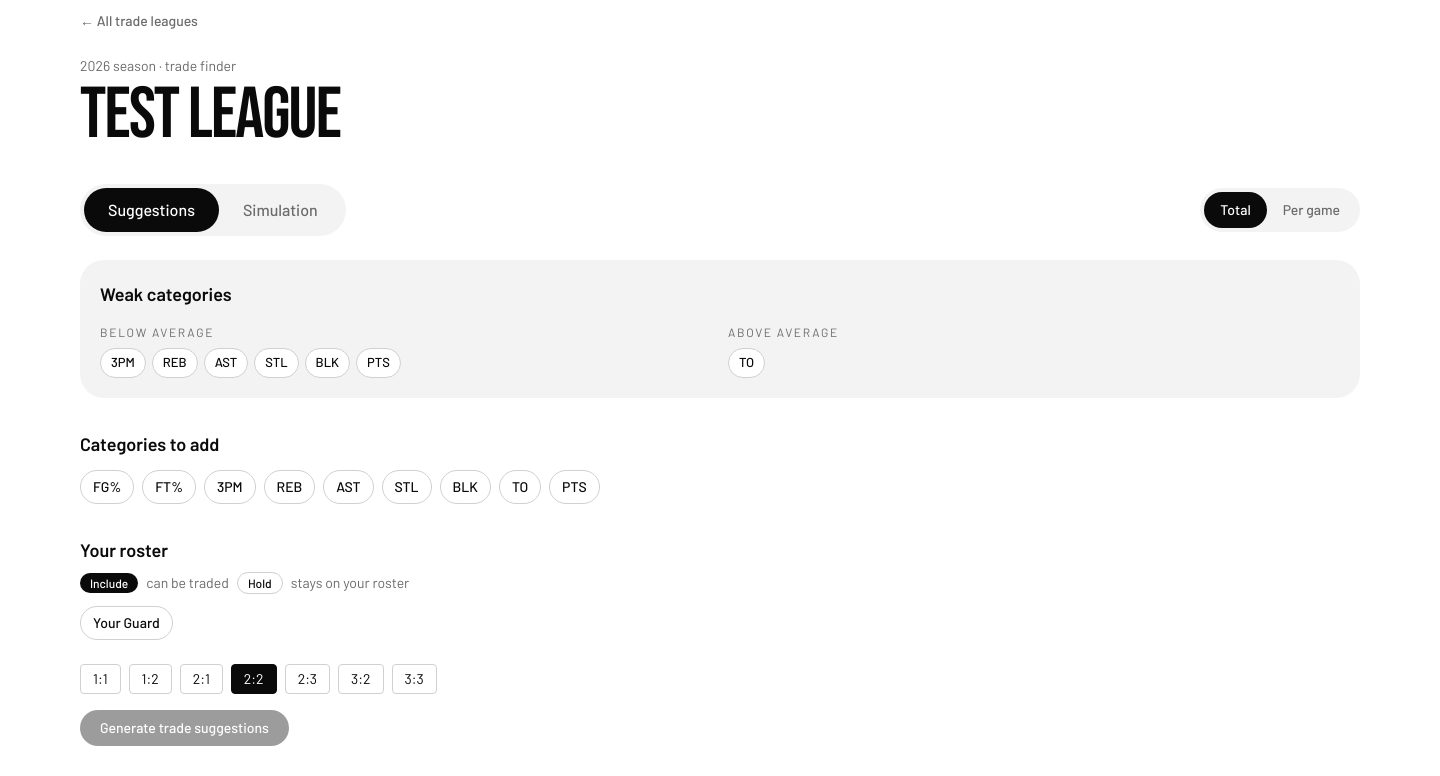
Test: TradeWorkspace › omits a player switched to Include
The image size is (1440, 776).
What coordinates should you click on to do the following:
click the button "3PM"
I would click on:
 (230, 486)
Its box is [204,470,256,504].
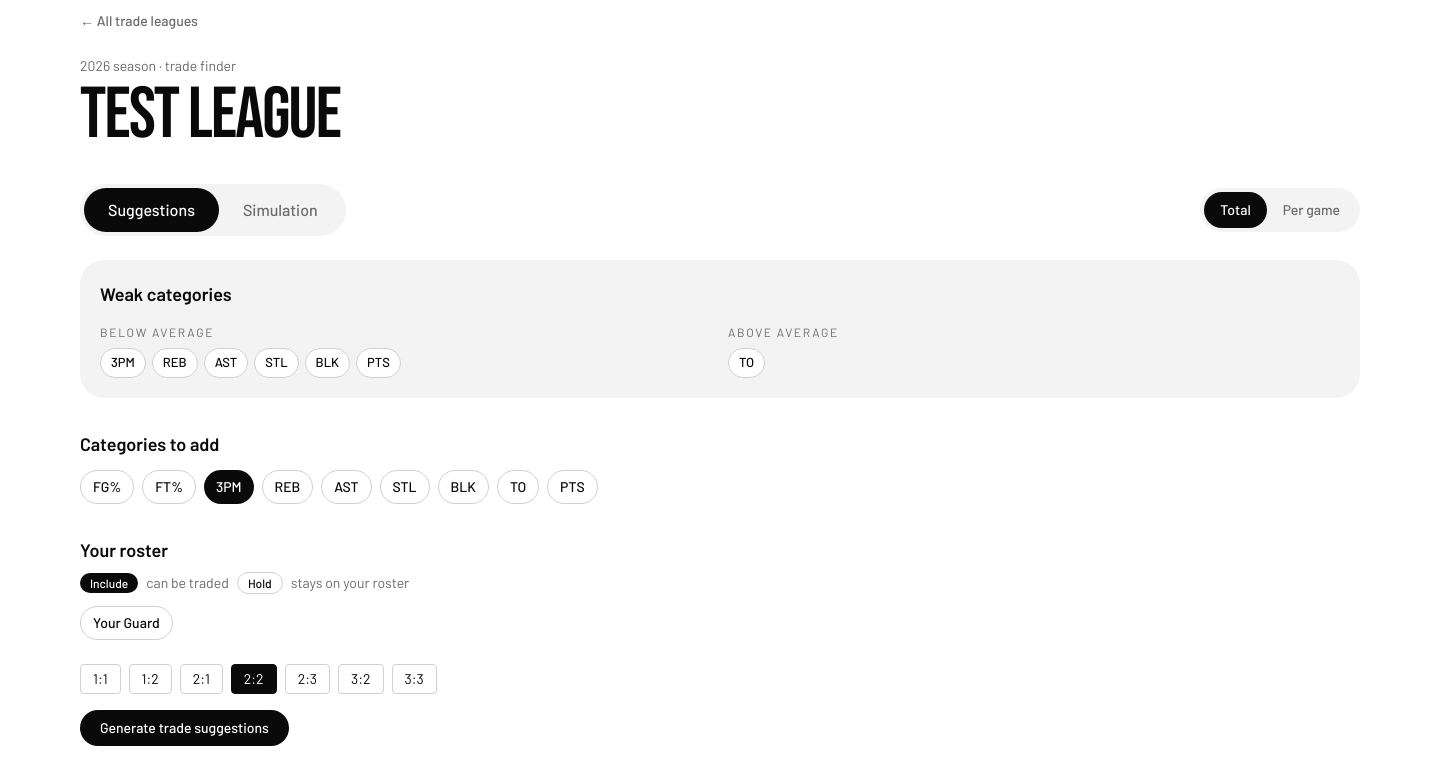
What coordinates should you click on to do the following:
click the button "Your Guard"
I would click on:
 (126, 622)
Its box is [80,606,173,640].
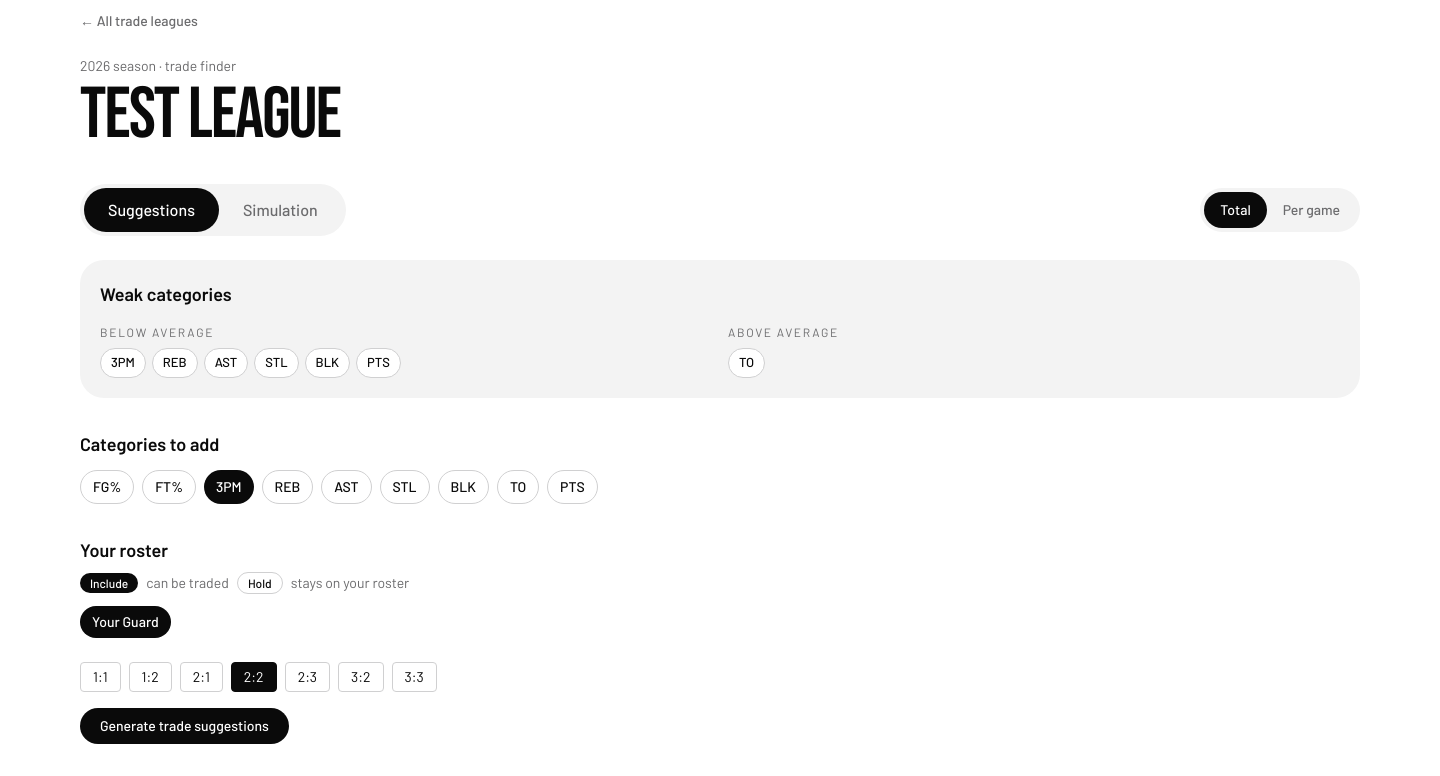
Check: the button "Your Guard" is pressed, box [80,606,171,638]
What coordinates should you click on to do the following:
click the button "Generate trade suggestions"
I would click on:
 (184, 726)
Its box is [80,708,289,744].
(page scrolled)
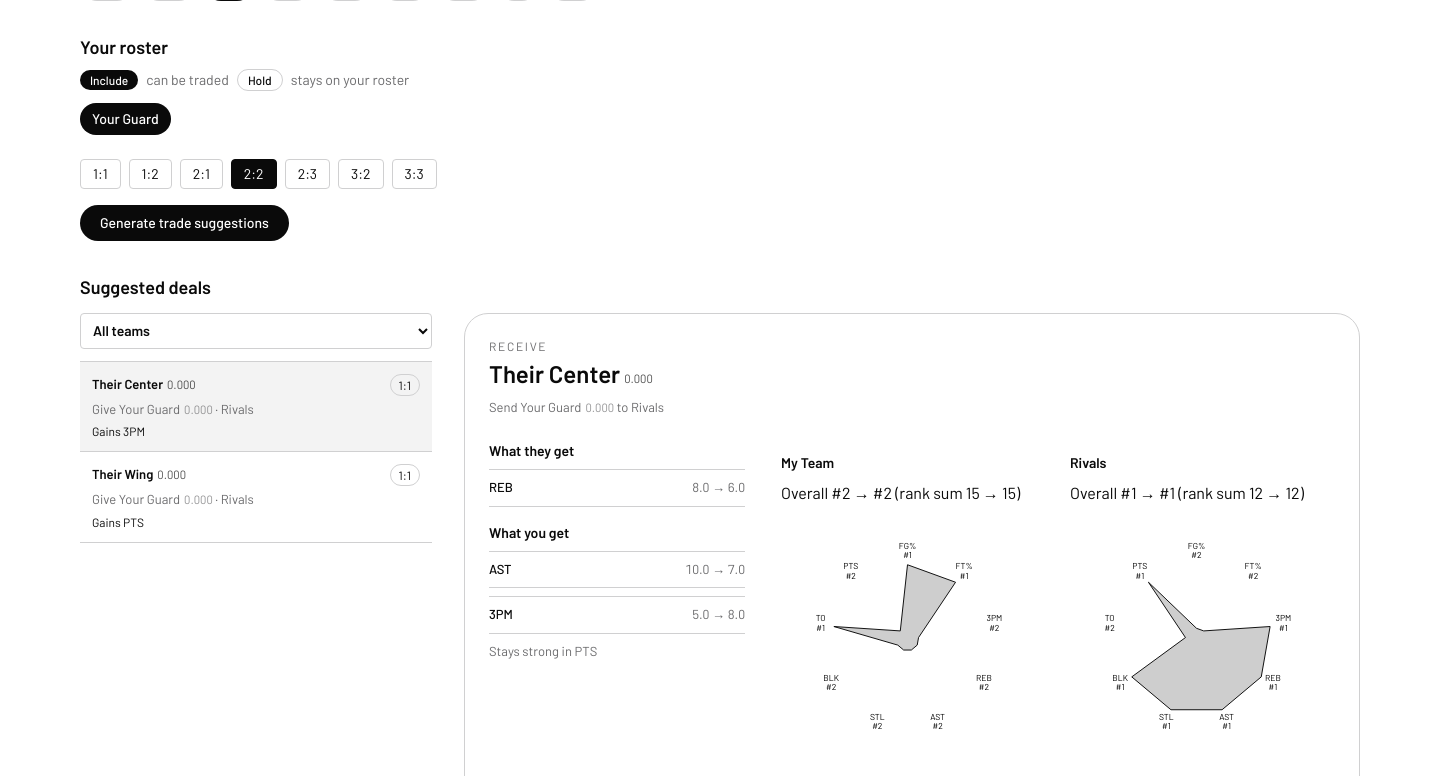
Check: the heading "Their Center0.000" is shown, box [489,358,653,388]
